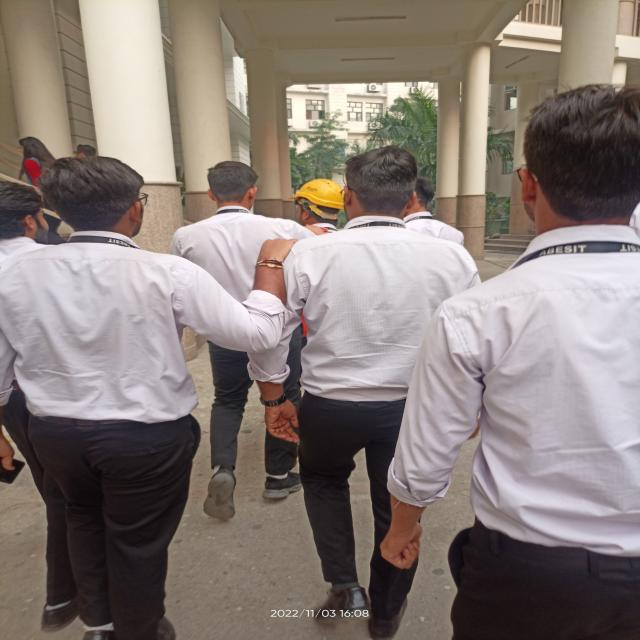unsafe: (394, 88, 638, 640), (2, 149, 245, 640), (296, 149, 466, 637)
